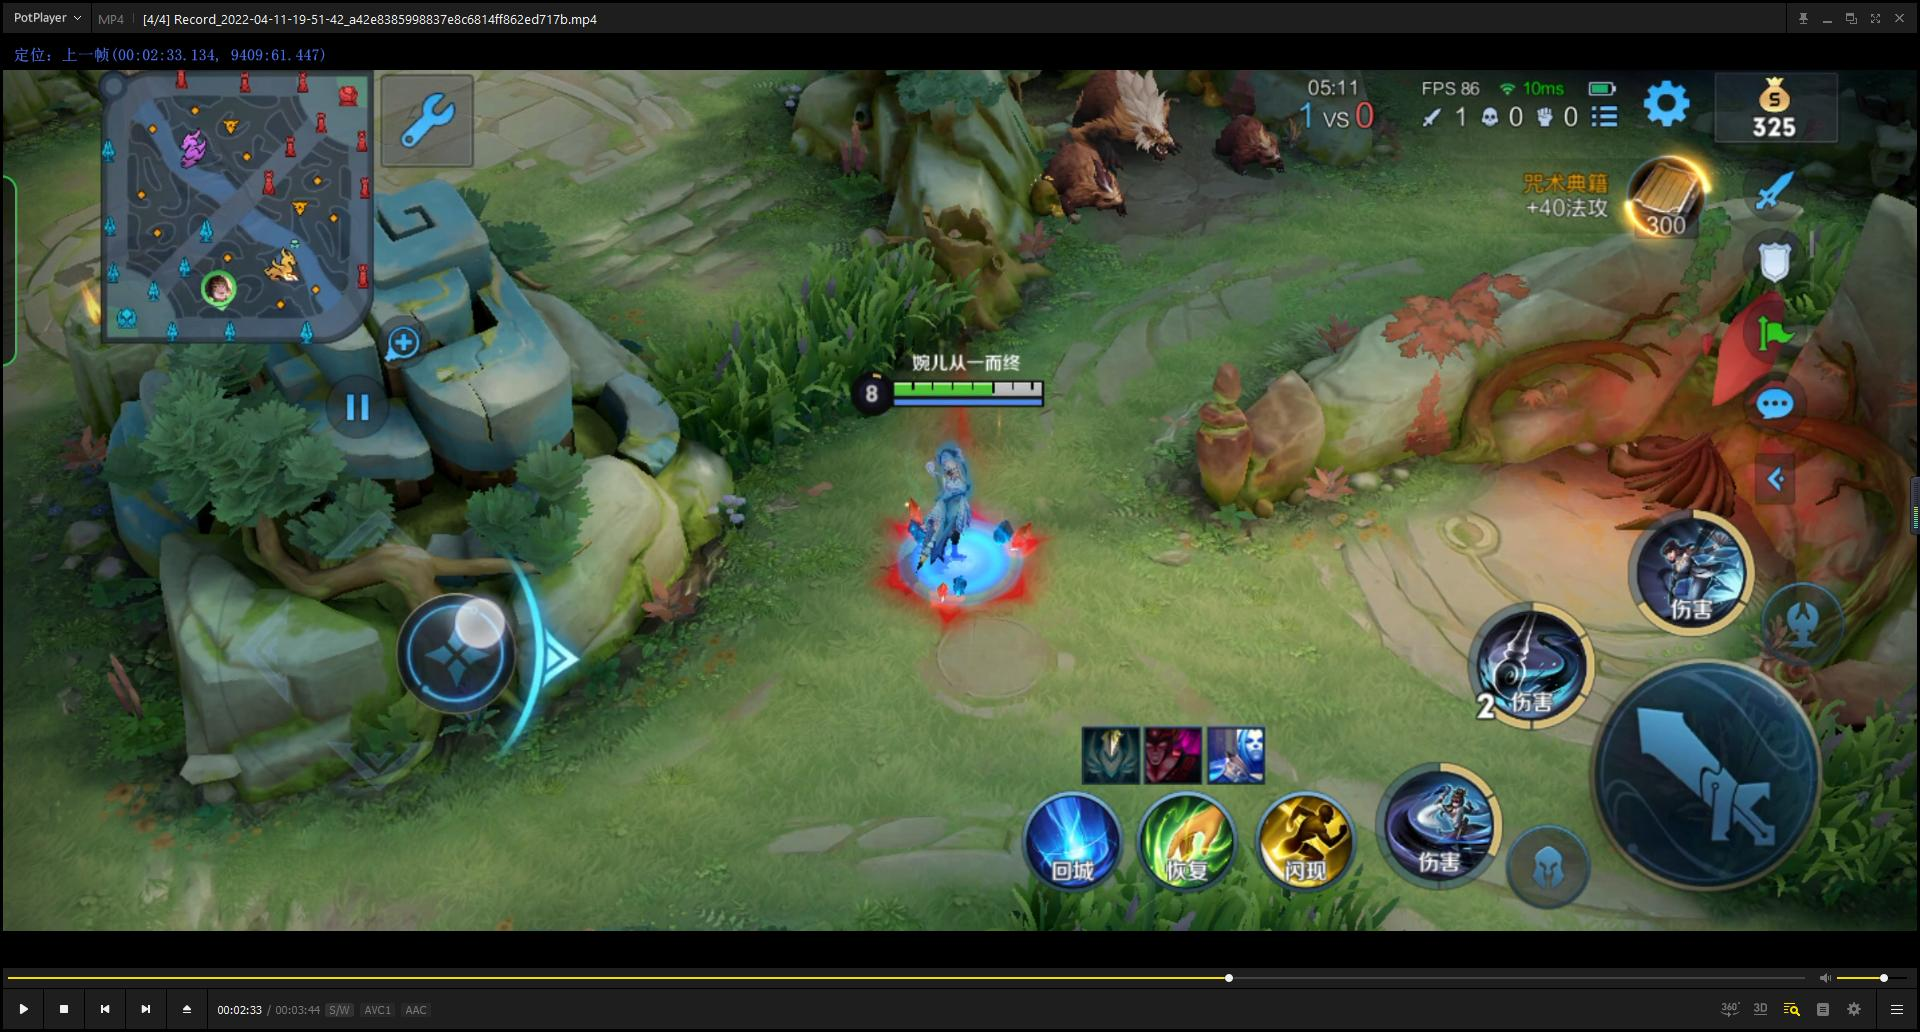Hero: (848, 433, 1055, 628)
Pig: (1053, 67, 1208, 189), (1013, 112, 1122, 240), (1212, 98, 1300, 189)
